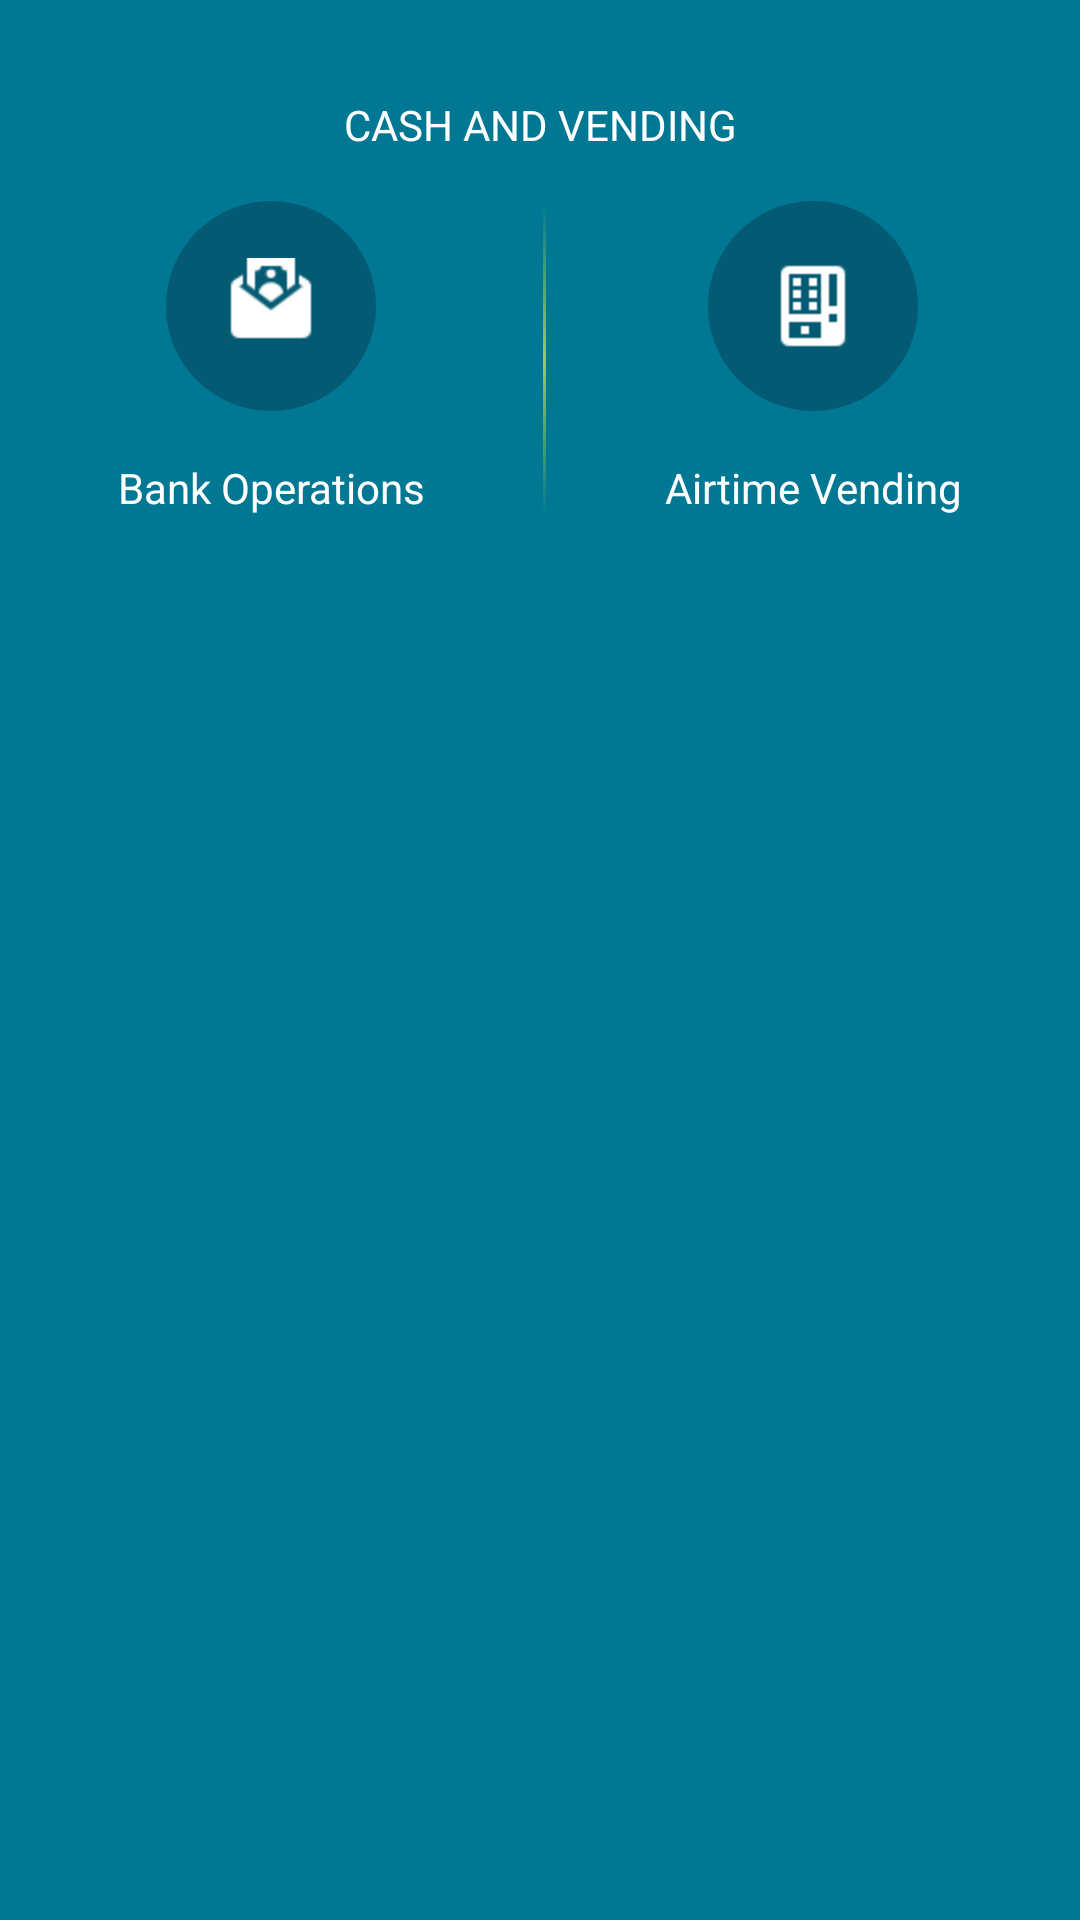

Where icons sit on this 1080 × 1920 app screen, as (x1, y1, x2, y2):
money transfer: (166, 201, 376, 411)
